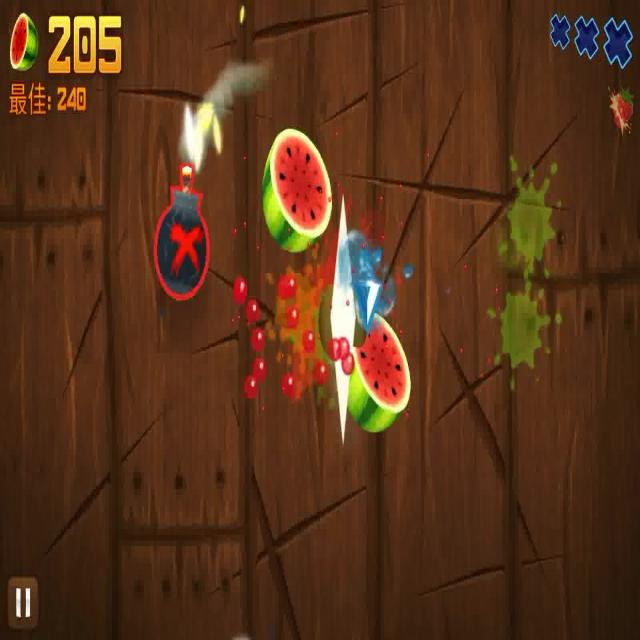bomb: (150, 152, 208, 305)
fruit: (260, 126, 333, 252), (345, 327, 410, 423), (319, 278, 362, 351)
